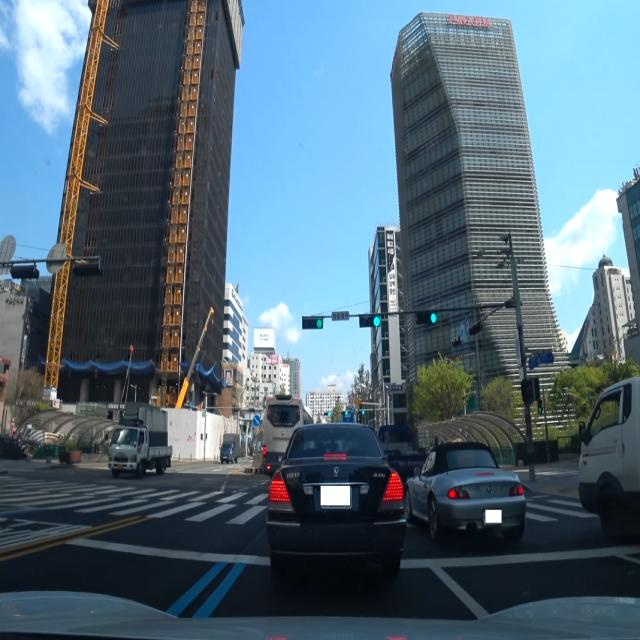Green Light: (373, 315, 381, 327), (430, 312, 437, 324), (316, 318, 323, 328)
